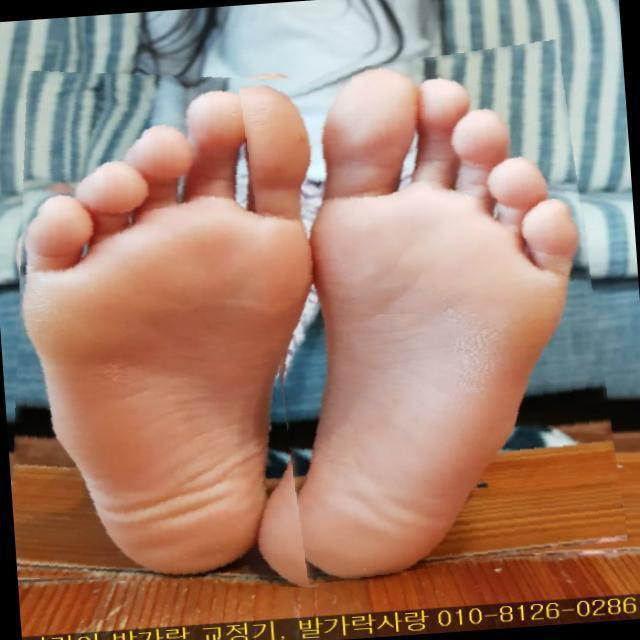No_Shoes: (6, 90, 307, 566), (319, 58, 579, 573)
